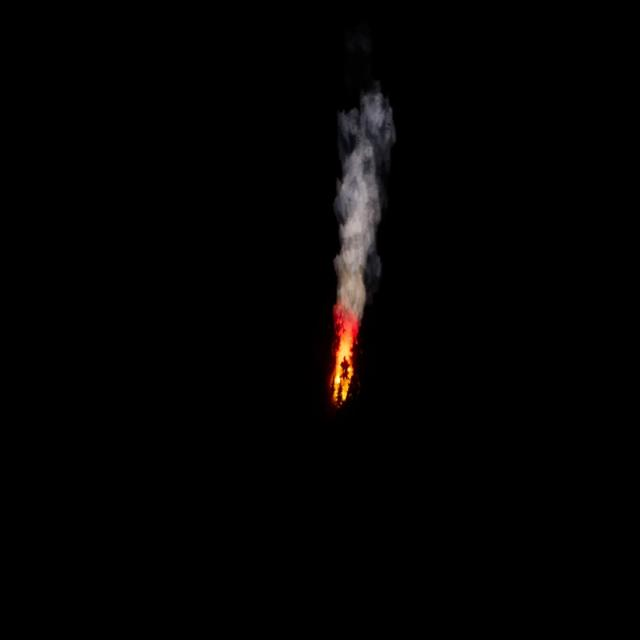fire: (329, 313, 362, 404)
smoke: (333, 80, 398, 310)
